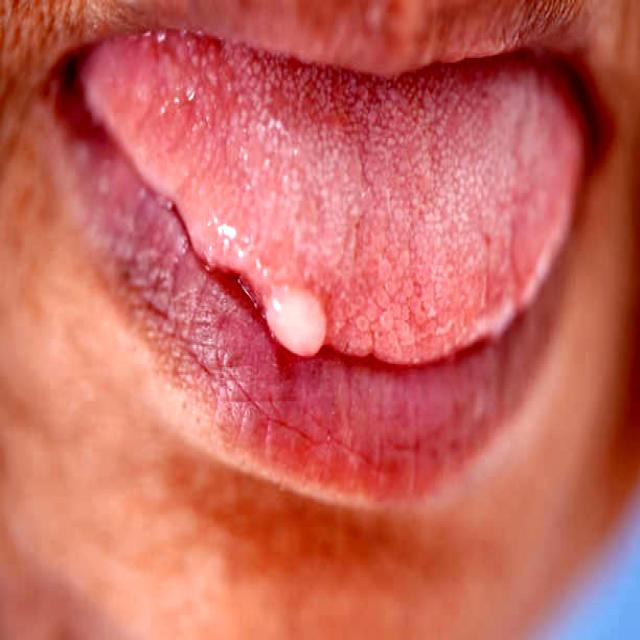ulcer: (264, 285, 325, 356)
